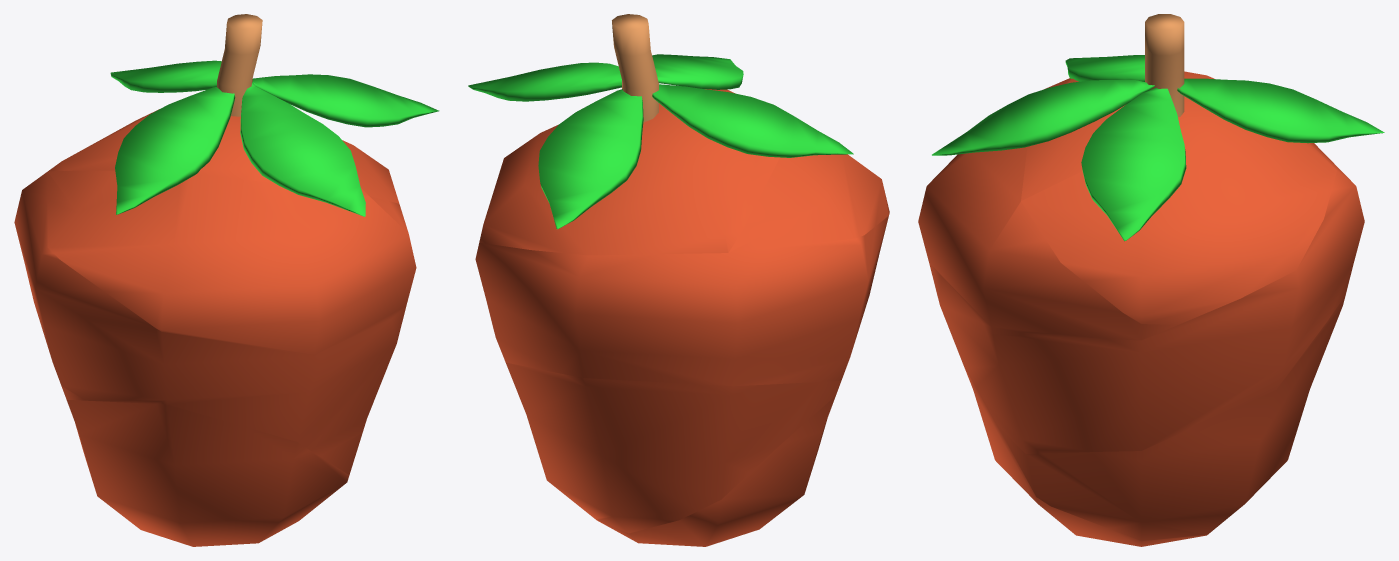
File: Low_Poly_Fruits_Pack_By_Edwin3D.fbx
3 renders of one model, left to right at view 1: azimuth 30°, elevation 25°; view 2: azimuth 150°, elevation 25°; view 3: azimuth 270°, elevation 25°, orthographic. The views are drawn at different scales.
Parts seen in each view (by area): view 1: StrawberryB_001.001, StrawberryB_001.002, StrawberryB_001.005, StrawberryB_001, StrawberryB_001.004, StrawberryB_001.003; view 2: StrawberryB_001.002, StrawberryB_001.003, StrawberryB_001.005, StrawberryB_001.004, StrawberryB_001.001, StrawberryB_001; view 3: StrawberryB_001.002, StrawberryB_001.004, StrawberryB_001.005, StrawberryB_001.003, StrawberryB_001.001, StrawberryB_001.
Boxes of the visible parts, x1,y1,x2,y2 form: StrawberryB_001.001: (47,170,416,354); StrawberryB_001.002: (14,172,404,456); StrawberryB_001.005: (110,14,439,216); StrawberryB_001: (66,400,349,546); StrawberryB_001.004: (48,109,399,203); StrawberryB_001.003: (32,297,362,475); StrawberryB_001.002: (475,216,888,386); StrawberryB_001.003: (506,362,841,533); StrawberryB_001.005: (468,14,853,229); StrawberryB_001.004: (479,89,778,255); StrawberryB_001.001: (728,154,889,252); StrawberryB_001: (595,396,835,546); StrawberryB_001.002: (929,143,1364,453); StrawberryB_001.004: (1021,71,1336,324); StrawberryB_001.005: (932,14,1384,241); StrawberryB_001.003: (997,295,1345,541); StrawberryB_001.001: (918,78,1177,340); StrawberryB_001: (965,369,1207,546).
Bounding box in the file's own units: 144 × 169 × 136.
